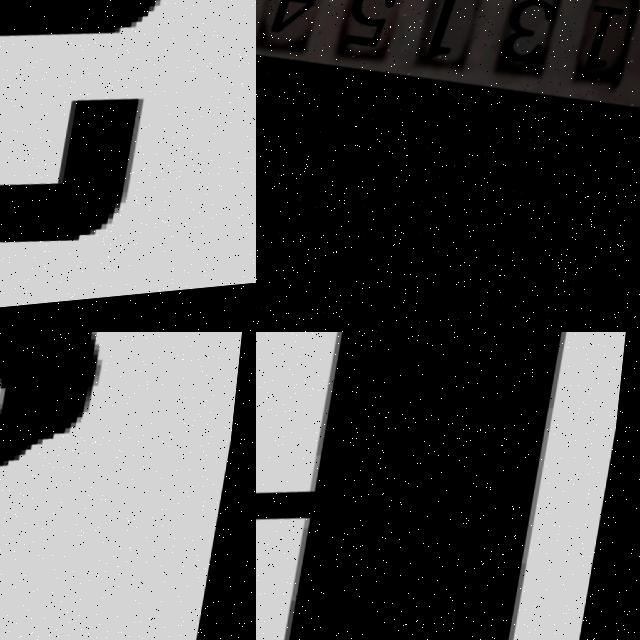1: (414, 0, 500, 83), (575, 1, 640, 100)
3: (492, 0, 581, 93)
4: (257, 0, 343, 62)
5: (336, 0, 423, 75)
8: (0, 332, 139, 640)
A: (0, 0, 230, 286)
H: (256, 332, 573, 640)
